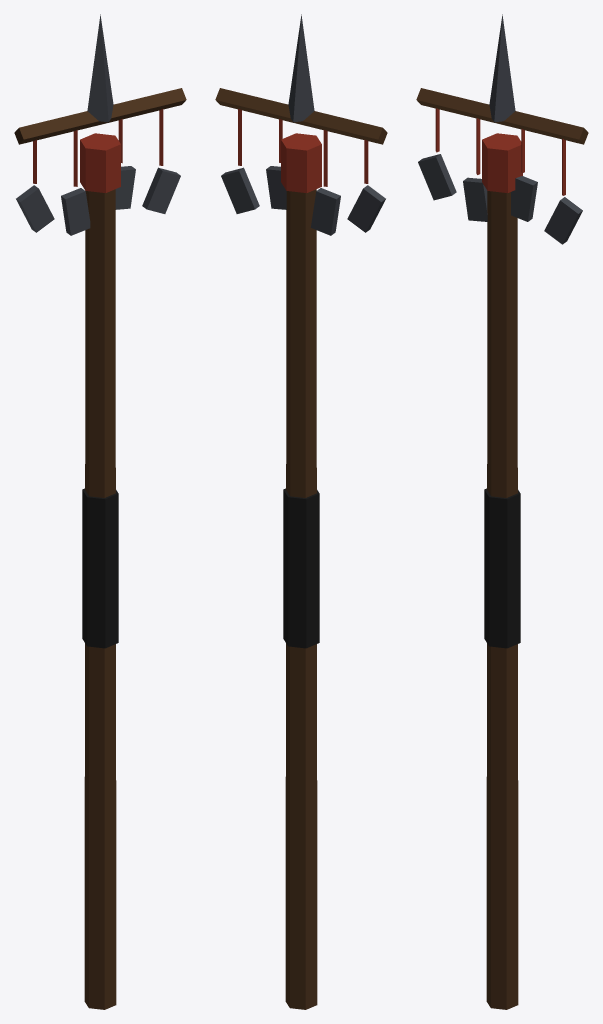
Rendered from weapon_staff.glb.
3 renders of one model, left to right at view 1: azimuth 30°, elevation 25°; view 2: azimuth 150°, elevation 25°; view 3: azimuth 330°, elevation 25°, orthographic.
Parts seen in each view (by area): view 1: orc_weapon_staff; view 2: orc_weapon_staff; view 3: orc_weapon_staff.
Part boxes in pixels (x1=…): orc_weapon_staff: x1=14, y1=14, x2=186, y2=1009; orc_weapon_staff: x1=215, y1=14, x2=387, y2=1009; orc_weapon_staff: x1=416, y1=14, x2=588, y2=1009.
Bounding box in the file's own units: 0.2413 × 1.39 × 0.0522.
